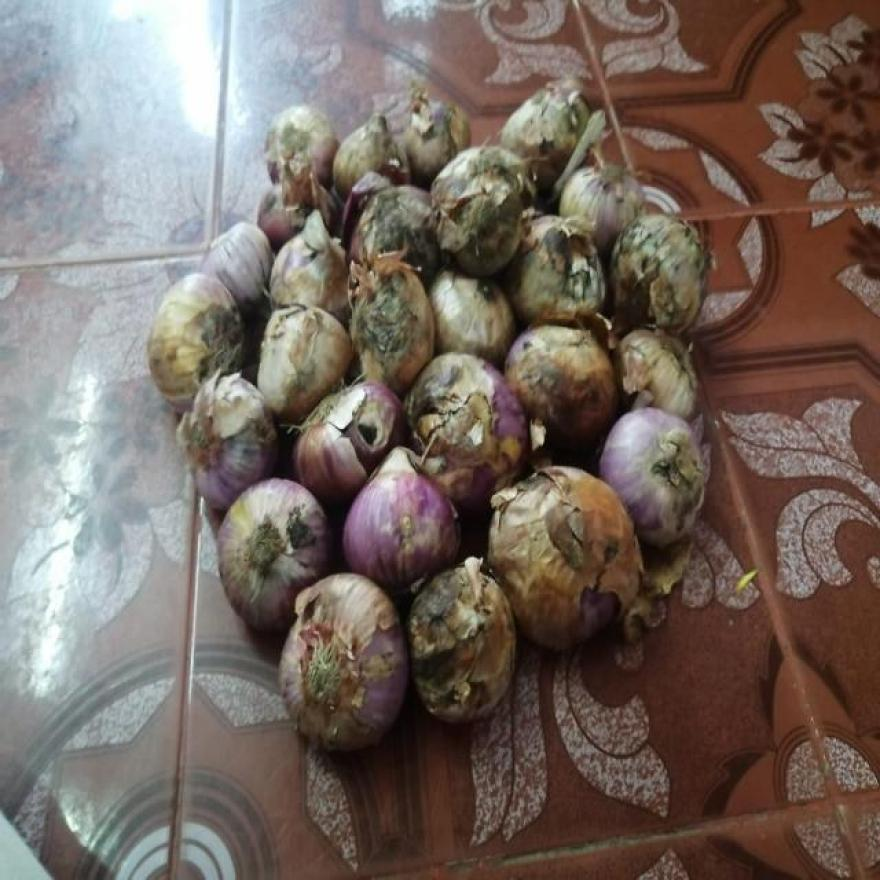Rotten: (433, 580, 484, 696), (448, 170, 501, 269), (358, 276, 410, 362), (541, 242, 606, 307), (521, 362, 593, 418), (407, 385, 465, 430), (199, 309, 241, 361), (352, 405, 388, 464)
